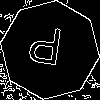P: (25, 25, 64, 75)
